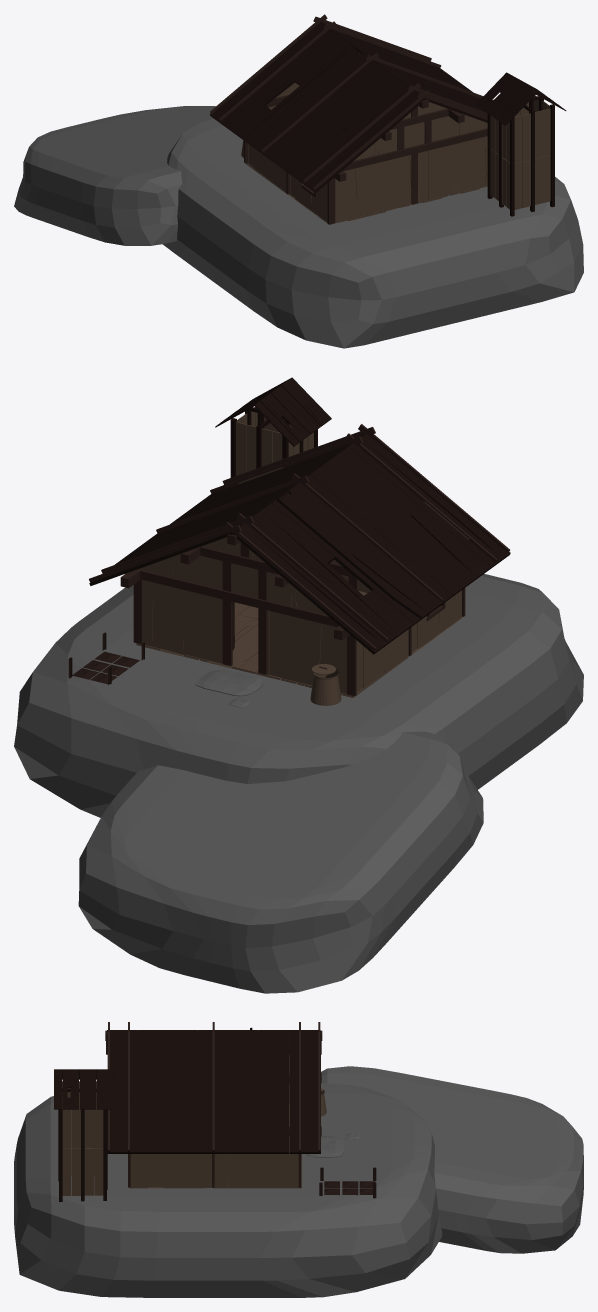
The model's file is house_upgrade001.fbx.
The picture shows the model from 3 angles, top to bottom: view 1: azimuth 30°, elevation 25°; view 2: azimuth 150°, elevation 25°; view 3: azimuth 270°, elevation 25°; orthographic projection. The views are drawn at different scales.
Visible parts, largest first — view 1: terrain, Roof001, Roof002, Upgrade001, Structure, Walls001, Walls002; view 2: terrain, Roof001, Roof002, Structure, Walls002, Walls001, Upgrade001, OutsideRock, Garden, Floor002, Floor001, seedsContainer; view 3: terrain, Roof002, Roof001, Upgrade001, Walls002, Walls001, Structure, Garden, OutsideRock.
Part boxes in pixels (box(x1,y1,x2,y2)): terrain: box(14, 106, 583, 348); Roof001: box(209, 22, 486, 192); Roof002: box(225, 22, 487, 181); Upgrade001: box(476, 72, 566, 216); Structure: box(210, 14, 487, 224); Walls001: box(253, 85, 480, 222); Walls002: box(246, 83, 487, 220); terrain: box(14, 574, 583, 993); Roof001: box(115, 434, 510, 654); Roof002: box(89, 434, 491, 639); Structure: box(89, 424, 509, 696); Walls002: box(139, 469, 468, 693); Walls001: box(142, 467, 461, 687); Upgrade001: box(215, 377, 331, 477); OutsideRock: box(195, 669, 264, 707); Garden: box(68, 632, 144, 684); Floor002: box(136, 592, 407, 697); Floor001: box(160, 591, 461, 687); seedsContainer: box(310, 664, 341, 705); terrain: box(14, 1066, 583, 1297); Roof002: box(107, 1030, 320, 1153); Roof001: box(107, 1027, 317, 1153); Upgrade001: box(54, 1069, 113, 1201); Walls002: box(143, 1054, 298, 1187); Walls001: box(130, 1154, 284, 1187); Structure: box(105, 1022, 322, 1187); Garden: box(319, 1167, 376, 1198); OutsideRock: box(306, 1133, 360, 1157).
Bounding box in the file's own units: 1641 × 1010 × 2209.
